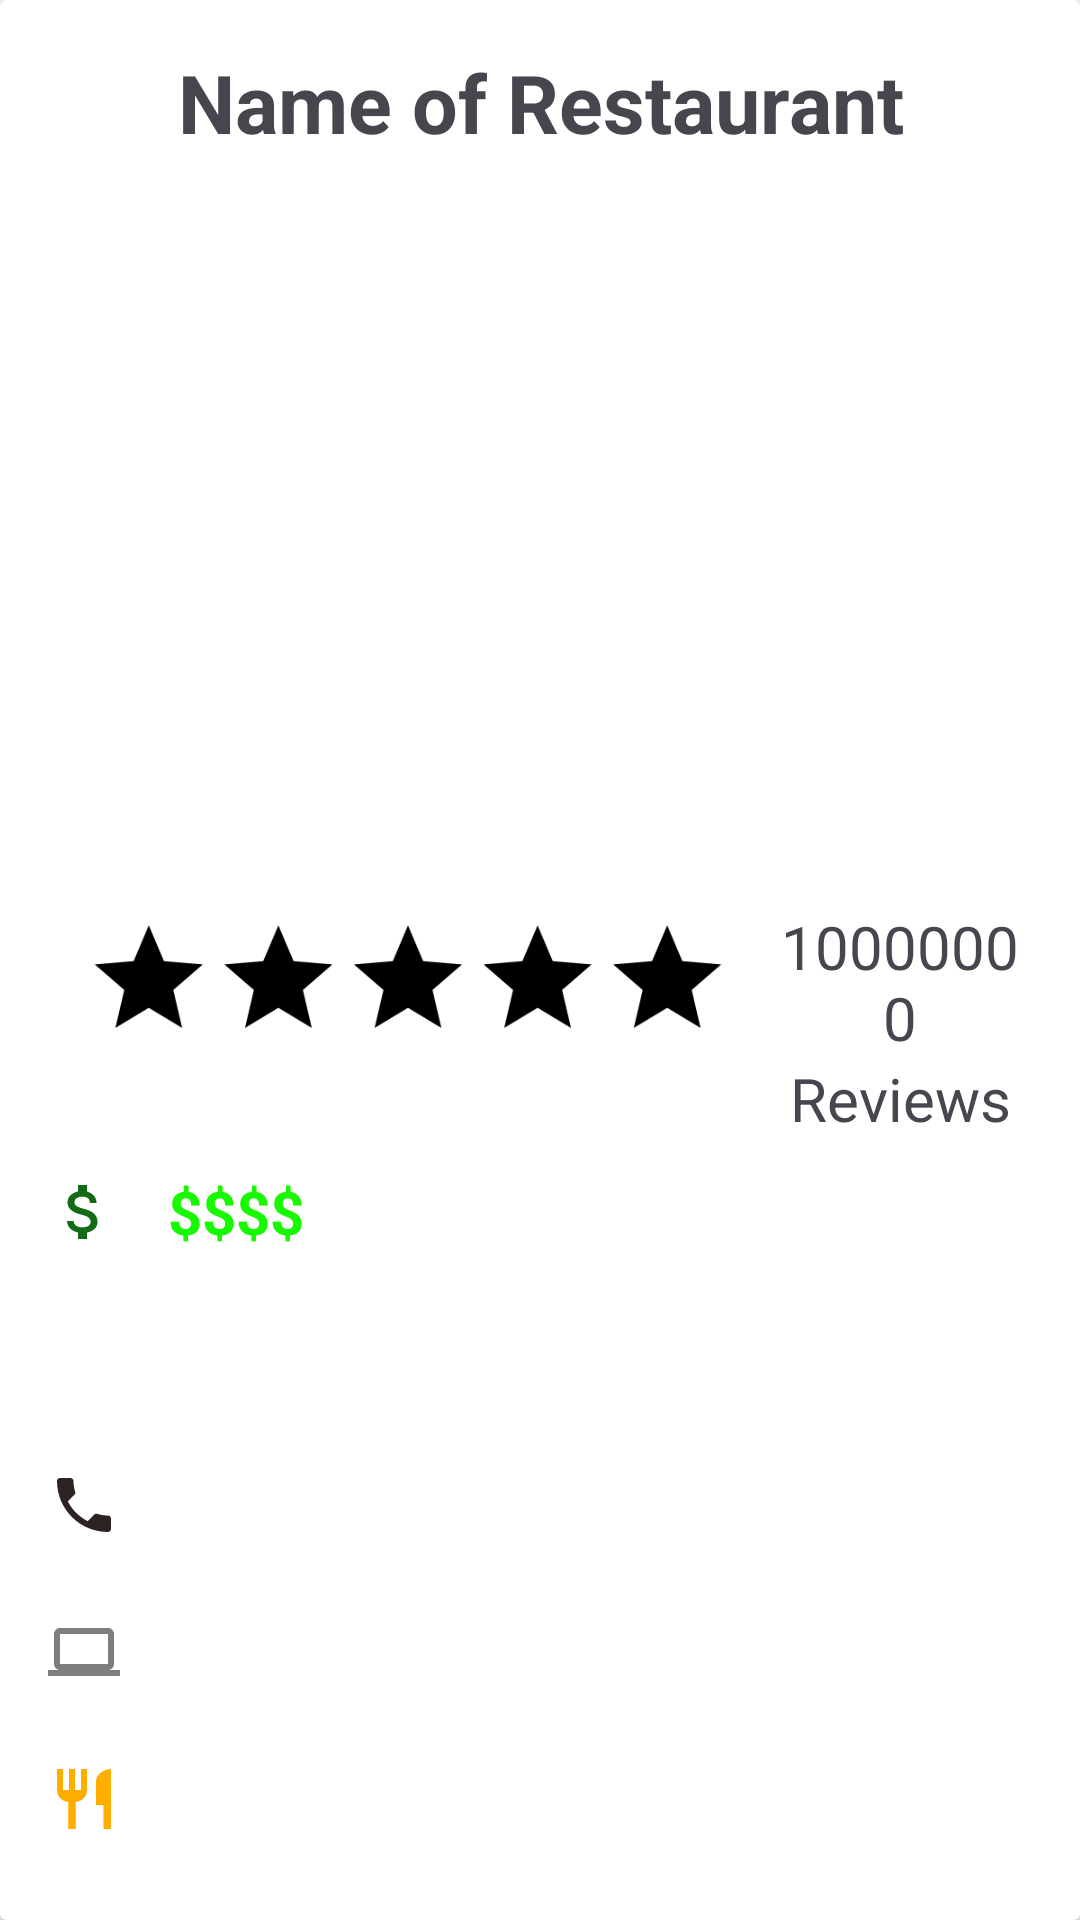

Point at icon controls on the screen. Image size 1080x1920, points as (x=x, y=y).
attach money: (x=82, y=1212)
computer: (x=84, y=1652)
phone: (x=84, y=1505)
restaurant: (x=84, y=1799)
